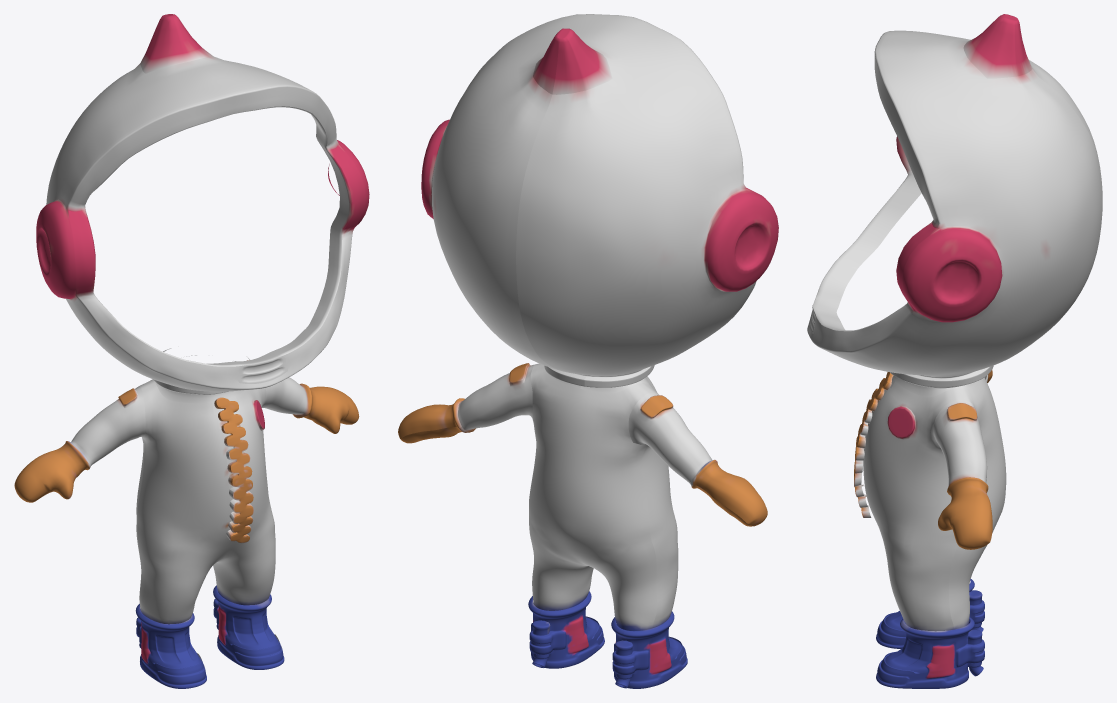
File: astrodamjan.glb
3 views of the same model, side by side, from view 1: azimuth 30°, elevation 25°; view 2: azimuth 150°, elevation 25°; view 3: azimuth 270°, elevation 25° (orthographic). The views are drawn at different scales.
Visible parts, largest first — view 1: astronaut; view 2: astronaut; view 3: astronaut.
Boxes of the visible parts, bbox=[...] form: astronaut: bbox=[14, 14, 369, 688]; astronaut: bbox=[398, 14, 778, 688]; astronaut: bbox=[807, 14, 1102, 688].
Bounding box in the file's own units: 18.55 × 32.45 × 13.53.
